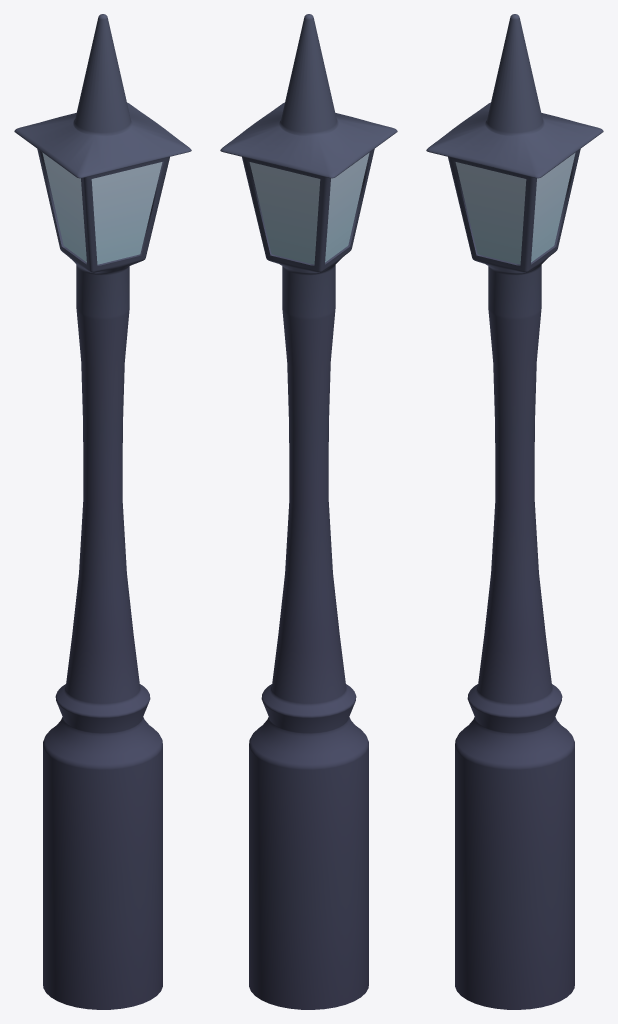
Rendered from SM_Lamppost.fbx.
The picture shows the model from 3 angles, left to right: view 1: azimuth 30°, elevation 25°; view 2: azimuth 150°, elevation 25°; view 3: azimuth 330°, elevation 25°; orthographic projection.
Parts seen in each view (by area): view 1: Circle; view 2: Circle; view 3: Circle.
Part boxes in pixels (x1,y1,x2,y2): Circle: (14, 14, 191, 1009); Circle: (220, 14, 397, 1009); Circle: (426, 14, 603, 1009).
Bounding box in the file's own units: 49.4 × 400 × 49.4.
